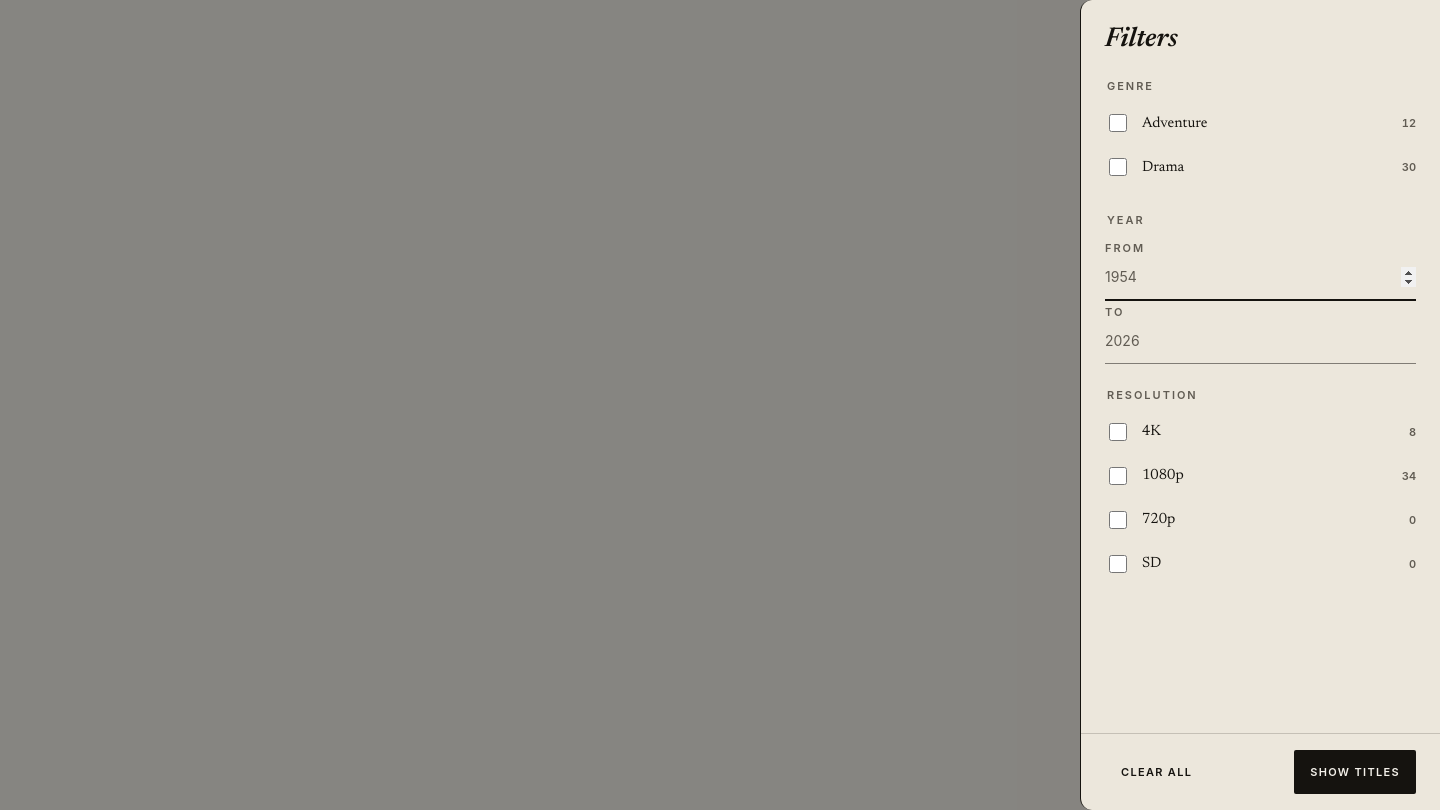
Test: FilterDrawer › lists the facets with counts and counts the pending choice 300 ms after it changes
expect the checkbox labelled "4K 8" is shown: met, box [1109,423,1127,441]
expect the checkbox labelled "SD 0" is shown: met, box [1109,555,1127,573]
Click the checkbox labelled "Drama 30" at (1118, 167), box [1109,158,1127,176]
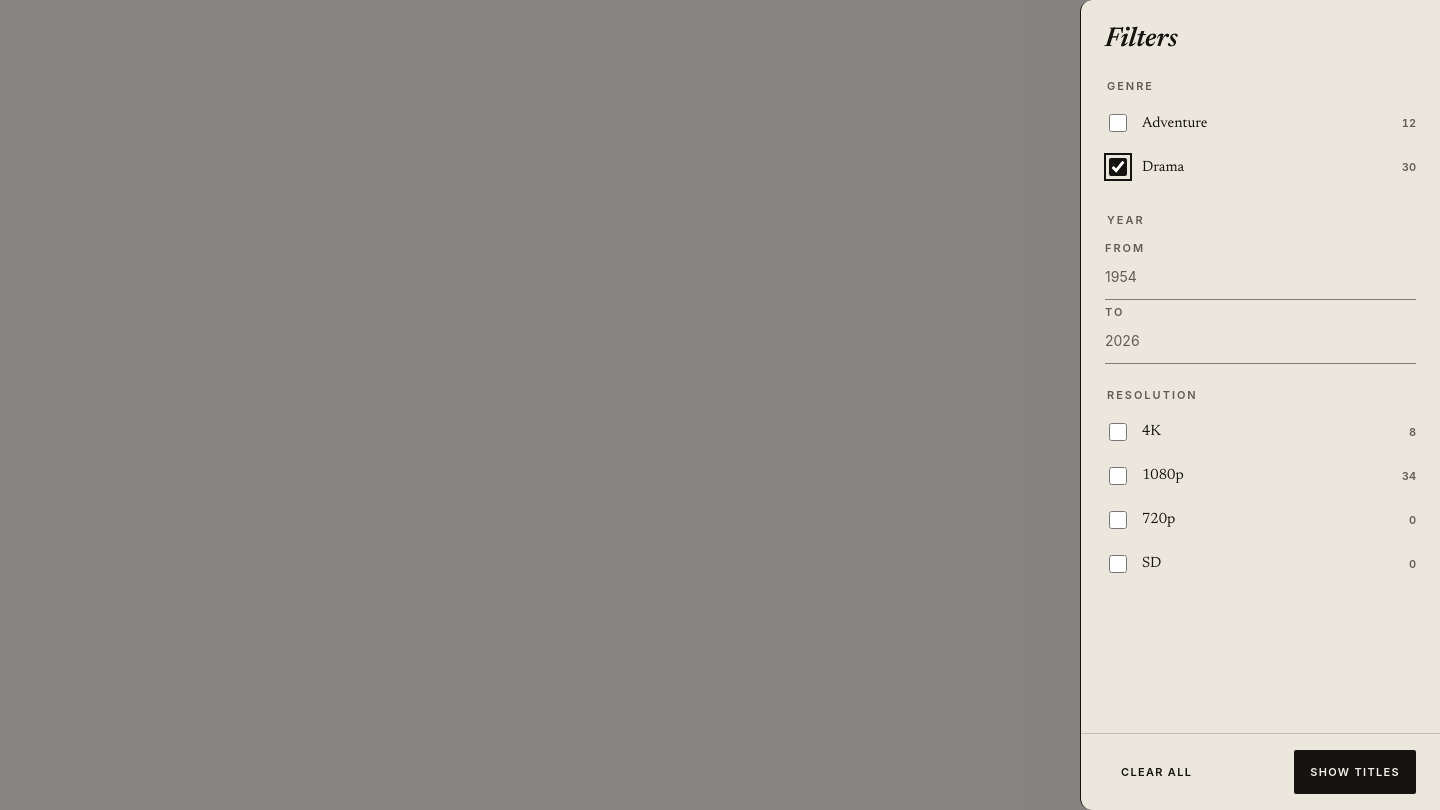
Type "1990" into the number field labelled "From" at (1260, 278), box [1105,256,1416,300]
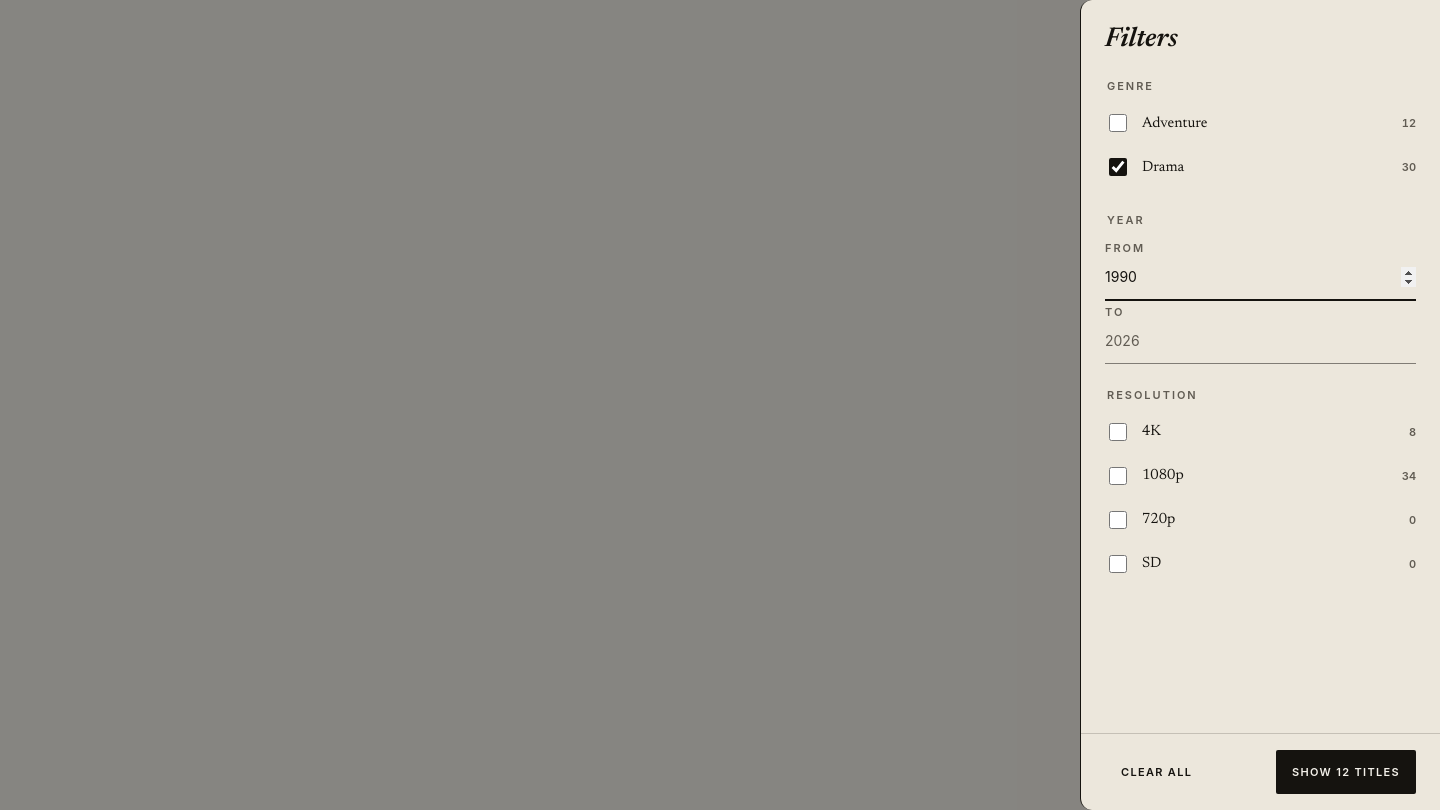
expect the button "Show 12 titles" is shown: met, box [1276,750,1416,794]
